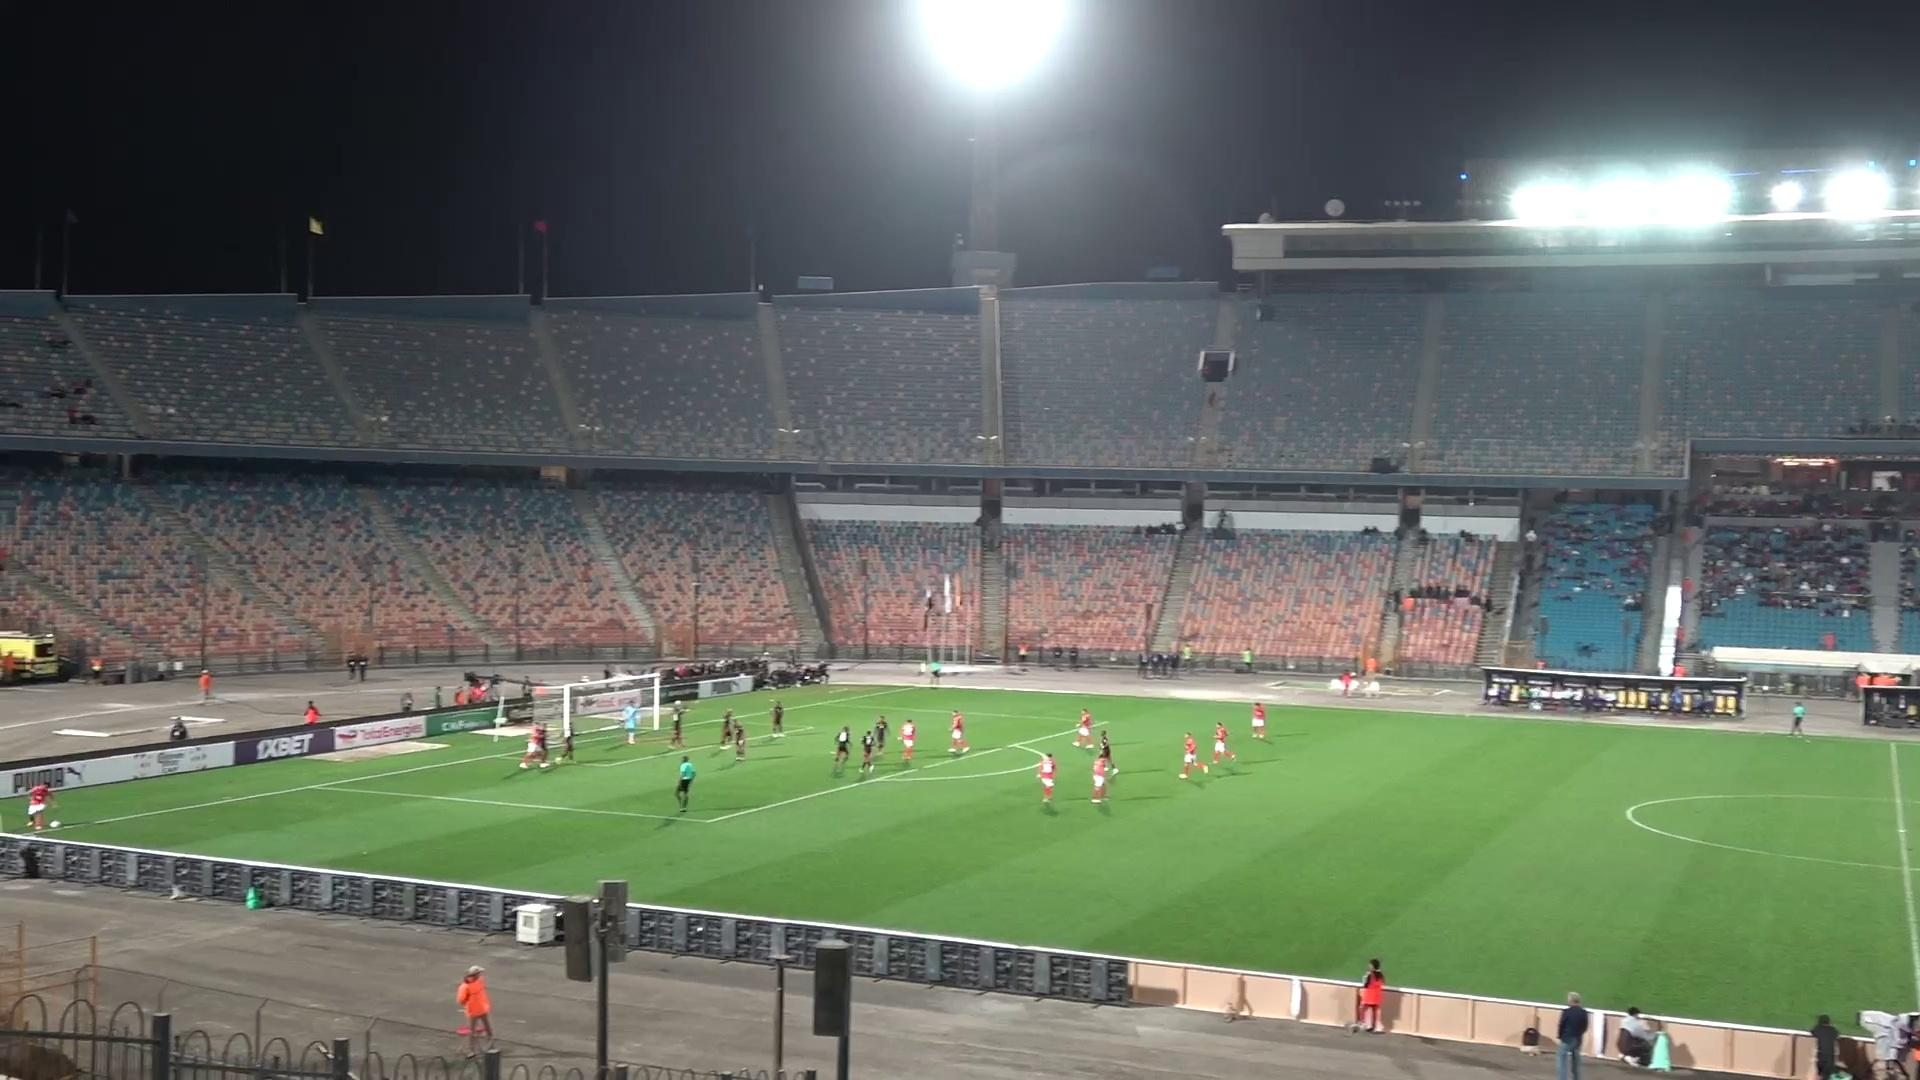Ball: (40, 816, 65, 831)
GK2: (618, 690, 642, 744)
Refree: (673, 754, 696, 814), (919, 651, 944, 684), (1789, 700, 1807, 735)
Team1: (1091, 735, 1118, 804), (25, 781, 58, 829), (1178, 732, 1207, 781), (1211, 723, 1236, 769), (1036, 753, 1058, 806), (1072, 709, 1097, 749), (948, 709, 969, 754), (898, 717, 916, 762), (1251, 702, 1269, 740)
Team2: (862, 713, 891, 771), (717, 709, 746, 760), (521, 721, 551, 767), (1095, 723, 1118, 775), (665, 702, 690, 750), (832, 727, 855, 775), (556, 716, 575, 762), (770, 699, 785, 738)
